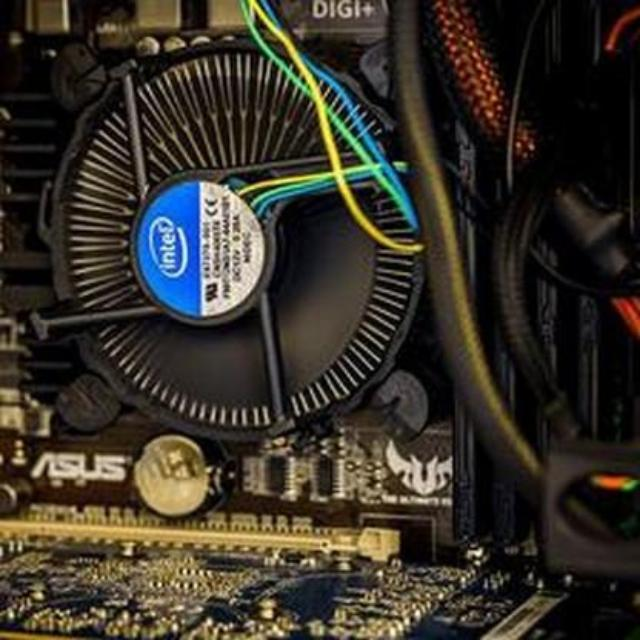CPU_Fan: (26, 25, 472, 432)
